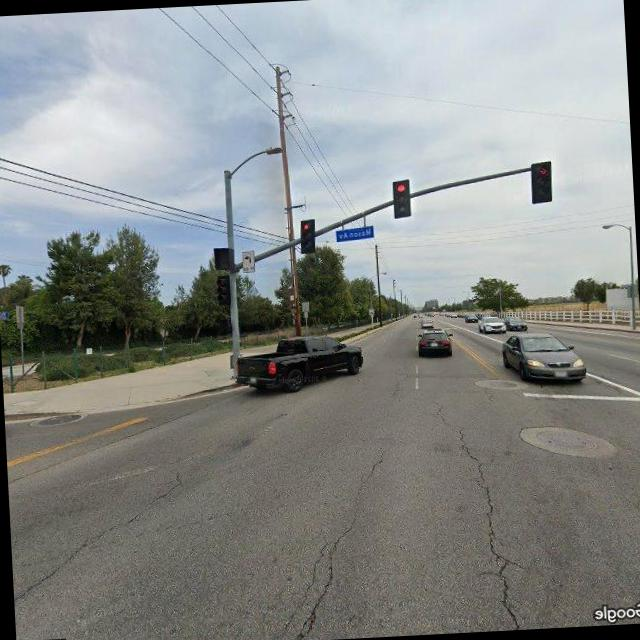pothole: (276, 447, 402, 640), (10, 470, 194, 602), (442, 396, 528, 628)
